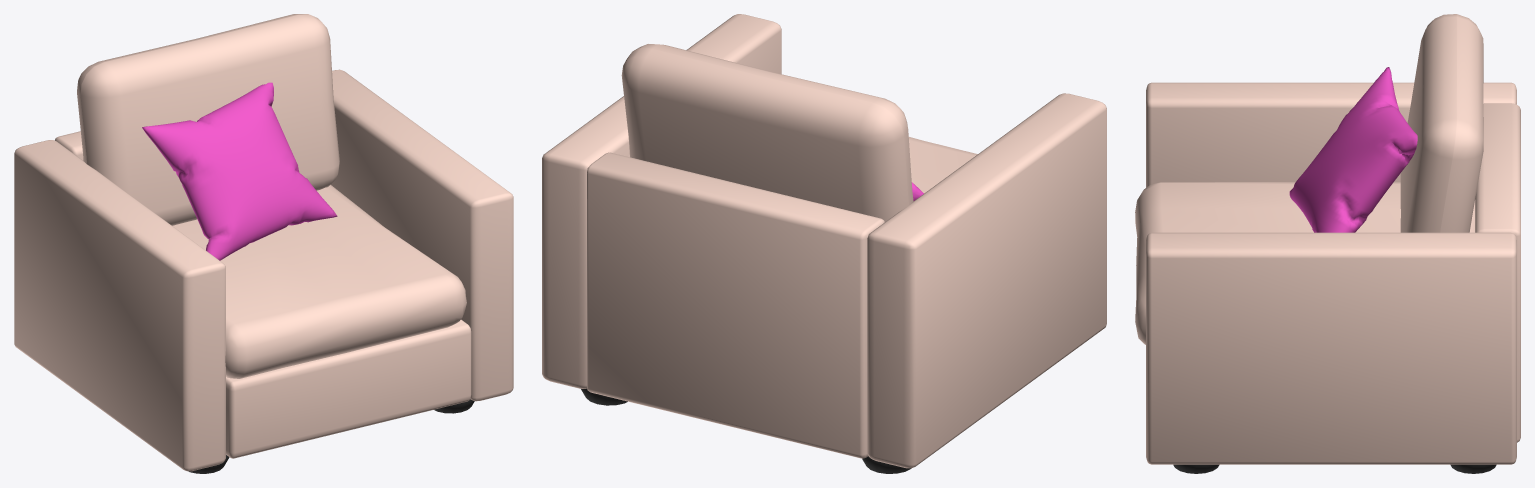
Rendered from white and pink armchair.fbx.
3 renders of one model, left to right at view 1: azimuth 30°, elevation 25°; view 2: azimuth 150°, elevation 25°; view 3: azimuth 270°, elevation 25°, orthographic. The views are drawn at different scales.
Visible parts, largest first — view 1: Cube; view 2: Cube; view 3: Cube.
Boxes of the visible parts, bbox=[...] form: Cube: bbox=[14, 14, 513, 473]; Cube: bbox=[542, 14, 1106, 473]; Cube: bbox=[1135, 14, 1520, 473].
Size of the model in its own units: 135 by 120 by 127.
